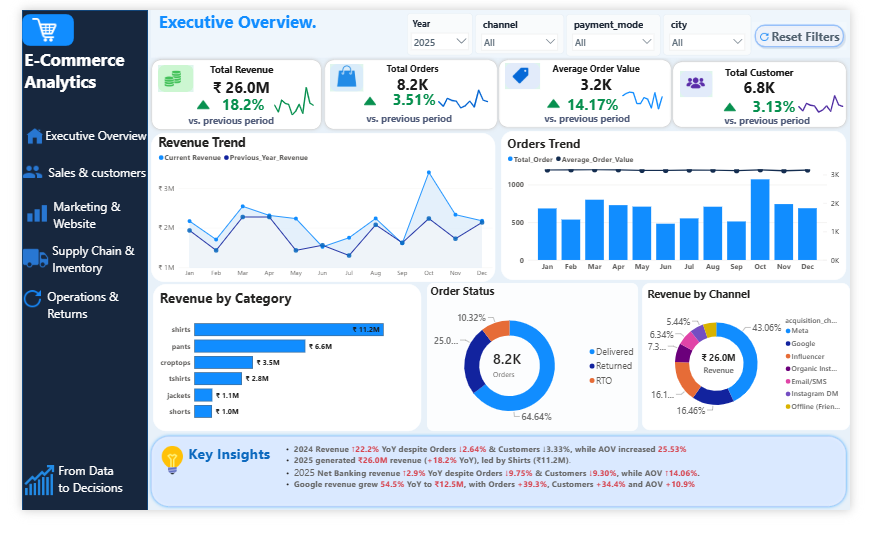

The page's visual inventory and layout, read from the dashboard file:
{"tool":"powerbi","page":{"name":"Page 1","canvas":[1840,1110],"ordinal":0},"visuals":[{"type":"actionButton","box":[1622.4,26.5,210.3,62.1],"z":0,"group":"g7"},{"type":"shape","box":[281,102.1,393.3,171.8],"z":0,"group":"g2"},{"type":"shape","box":[664.1,102.7,400,171.1],"z":0,"group":"g3"},{"type":"shape","box":[1051.4,103.2,400,166.7],"z":0,"group":"g1"},{"type":"shape","box":[1437.8,107.8,402.2,162.2],"z":0,"group":"g4"},{"type":"donutChart","title":"Order Status","fields":{"Y":["Dax_Measure.Total_Order"],"Category":["public order_clean.delivered_returned_rto"]},"box":[899.4,606.9,468.9,328.9],"z":0,"group":"g6"},{"type":"donutChart","title":"Revenue by Channel","fields":{"Category":["public customers_clean.acquisition_channel"],"Y":["Dax_Measure.Total_Revenue"]},"box":[1376.9,607.3,462.2,326.7],"z":0,"group":"g5"},{"type":"shape","box":[280.4,939.2,1558.8,170.6],"z":0},{"type":"shape","box":[0,0,280,1500],"z":1000},{"type":"image","box":[1625.8,48.9,46.6,22.4],"z":1000,"group":"g7"},{"type":"cardVisual","title":"Average Order Value","fields":{"Data":["Dax_Measure.Average_Order_Value"]},"box":[1166.7,116,218.4,146.7],"z":1000,"group":"g1"},{"type":"cardVisual","title":"Total Orders","fields":{"Data":["Dax_Measure.Total_Order"]},"box":[760.7,116.5,215.6,151.1],"z":1000,"group":"g3"},{"type":"cardVisual","title":"Total Revenue","fields":{"Data":["Dax_Measure.Total_Revenue"]},"box":[389.1,117.9,197.8,149.4],"z":1000,"group":"g2"},{"type":"cardVisual","title":"Total Customer","fields":{"Data":["Dax_Measure.Total Customers"]},"box":[1521,124.9,236.3,135.4],"z":1000,"group":"g4"},{"type":"cardVisual","fields":{"Data":["Dax_Measure.Total_Order"]},"box":[1025.2,704.4,119.7,162.8],"z":1000,"group":"g6"},{"type":"cardVisual","fields":{"Data":["Dax_Measure.Total_Revenue"]},"box":[1468,741,158.1,90.5],"z":1000,"group":"g5"},{"type":"group","id":"g1","title":"Averaage Order Value","box":[1051.4,103.2,400,166.7],"z":2000},{"type":"shape","box":[1072.5,118.8,77.9,57.7],"z":2000,"group":"g1"},{"type":"shape","box":[684.7,120.4,73.9,61],"z":2000,"group":"g3"},{"type":"shape","box":[302.7,123.1,79.1,59.8],"z":2000,"group":"g2"},{"type":"shape","box":[1461.9,137,72.4,57.8],"z":2000,"group":"g4"},{"type":"shape","box":[286.5,0,1584.6,105.8],"z":3000},{"type":"image","box":[301.3,124.3,74.6,51.1],"z":3000,"group":"g2"},{"type":"cardVisual","fields":{"Data":["Dax_Measure.Order_Growth"]},"box":[753.5,162.8,195.6,66.7],"z":3000,"group":"g3"},{"type":"cardVisual","fields":{"Data":["Dax_Measure.AOV YOY Growth %"]},"box":[1166.7,167.2,188.9,80],"z":3000,"group":"g1"},{"type":"cardVisual","fields":{"Data":["Dax_Measure.Customer YOY Growth %"]},"box":[1560.5,179.4,188.9,68.9],"z":3000,"group":"g4"},{"type":"textbox","box":[286.5,0,1580.8,107.7],"z":4000},{"type":"lineChart","fields":{"Y":["Dax_Measure.Average_Order_Value"],"Category":["Dim_Date.Year Month"]},"box":[1320.4,165.1,117.3,61.9],"z":4000,"group":"g1"},{"type":"cardVisual","fields":{"Data":["Dax_Measure.Revenue Growth %"]},"box":[391.7,171.3,178,71.9],"z":4000,"group":"g2"},{"type":"image","box":[732.1,182.7,80,40],"z":4000,"group":"g3"},{"type":"image","box":[1548.9,196.7,48.9,40],"z":4000,"group":"g4"},{"type":"image","box":[1078.1,127.6,60,37.8],"z":5000,"group":"g1"},{"type":"lineChart","fields":{"Y":["Dax_Measure.Total Customers"],"Category":["Dim_Date.Year Month"]},"box":[1710.5,168.6,127.5,71.4],"z":5000,"group":"g4"},{"type":"image","box":[367,189.5,72,42.7],"z":5000,"group":"g2"},{"type":"textbox","box":[760.7,220.9,213.3,46.7],"z":5000,"group":"g3"},{"type":"image","box":[3.9,1011.8,66.7,66.7],"z":5000},{"type":"image","box":[1468.8,138.7,56.9,46.2],"z":6000,"group":"g4"},{"type":"lineChart","fields":{"Y":["Dax_Measure.Total_Order"],"Category":["Dim_Date.Year Month"]},"box":[910.9,154.9,138.4,73.5],"z":6000,"group":"g3"},{"type":"image","box":[1151.4,187.6,60,42.2],"z":6000,"group":"g1"},{"type":"textbox","box":[364.8,223.3,211.1,64.4],"z":6000,"group":"g2"},{"type":"textbox","box":[76.5,1000,196.1,92.2],"z":6000},{"type":"group","id":"g2","title":"Total-Revenue KPI","box":[281,102.1,393.3,186.7],"z":7000},{"type":"lineChart","fields":{"Category":["Dim_Date.Year Month"],"Y":["Dax_Measure.Total_Revenue"]},"box":[548.4,154.9,115.6,83.6],"z":7000,"group":"g2"},{"type":"textbox","box":[1155.6,220.5,206.7,42.2],"z":7000,"group":"g1"},{"type":"textbox","box":[1556.1,225.3,215.6,37.8],"z":7000,"group":"g4"},{"type":"group","id":"g3","title":"Total-Orders KPI","box":[664.1,102.7,400,171.1],"z":8000},{"type":"image","box":[686.5,121.2,69.2,48.1],"z":9000},{"type":"group","id":"g4","title":"Total customers KPI","box":[1437.8,107.8,402.2,162.2],"z":10000},{"type":"clusteredBarChart","title":"Revenue by Category","fields":{"Category":["public clean_fashionorder.category"],"Y":["Dax_Measure.Category_Revenue"]},"box":[292.2,609.8,596.1,327.5],"z":12000},{"type":"group","id":"g5","title":"Group 1","box":[1376.9,607.3,462.2,326.7],"z":13000},{"type":"group","id":"g6","title":"Group 2","box":[899.4,606.9,468.9,328.9],"z":14000},{"type":"lineChart","title":"Revenue Trend","fields":{"Category":["Dim_Date.Month"],"Y":["Dax_Measure.Total_Revenue","Dax_Measure.Previous_Year_Revenue"]},"box":[285.7,273.5,765.3,330.6],"z":15000},{"type":"slicer","fields":{"Values":["public order_clean.channel_source_last_touch"]},"box":[1006.7,8.9,197.8,88.9],"z":16000},{"type":"slicer","fields":{"Values":["public order_clean.payment_mode"]},"box":[1209.8,9.8,209.8,94.1],"z":17000},{"type":"slicer","fields":{"Values":["public customers_clean.city"]},"box":[1423.5,9.8,196.1,92.2],"z":18000},{"type":"slicer","fields":{"Values":["Dim_Date.Year"]},"box":[855.8,7.7,146.2,94.2],"z":19000},{"type":"group","id":"g7","title":"Reset Button","box":[1622.4,26.5,210.2,61.2],"z":20000},{"type":"image","box":[292.2,962.7,86,76],"z":21000},{"type":"textbox","box":[364.7,952.9,243.1,76.5],"z":22000},{"type":"textbox","box":[0,80,280,108.9],"z":23000},{"type":"shape","box":[0,8.9,115.6,71.1],"z":24000},{"type":"image","box":[8.9,17.8,82.2,53.3],"z":25000},{"type":"image","box":[0,261.2,57.1,36.7],"z":26000},{"type":"image","box":[0,322.4,46.9,75.5],"z":27000},{"type":"image","box":[2.1,510.6,44.7,66],"z":28000},{"type":"image","box":[0,424.5,65.3,55.1],"z":29000},{"type":"image","box":[0,616,46,52],"z":30000},{"type":"textbox","box":[46.9,255.1,255.1,83.7],"z":31000},{"type":"textbox","box":[46.9,338.8,234.7,59.2],"z":32000},{"type":"textbox","box":[65.3,412.2,216.3,81.6],"z":33000},{"type":"textbox","box":[51.1,510.6,231.9,87.2],"z":34000},{"type":"textbox","box":[50,614,228,96],"z":35000},{"type":"textbox","box":[570.6,939.2,1266.7,170.6],"z":36000},{"type":"lineClusteredColumnComboChart","title":"Ordes Trend","fields":{"Category":["Dim_Date.Month"],"Y":["Dax_Measure.Total_Order"],"Y2":["Dax_Measure.Average_Order_Value"]},"box":[1057.1,269.6,775,328.6],"z":38000}]}

Visuals, with their boxes on the page's 1840x1110 design canvas (x1, y1, x2, y2). These are canvas units, not pixel positions in the 878x533 screenshot, which may show the page scaled, cropped or inside an application window:
actionButton: 1622/26/1833/89
shape: 281/102/674/274
shape: 664/103/1064/274
shape: 1051/103/1451/270
shape: 1438/108/1840/270
"Order Status" donutChart: 899/607/1368/936
"Revenue by Channel" donutChart: 1377/607/1839/934
shape: 280/939/1839/1110
shape: 0/0/280/1500
image: 1626/49/1672/71
"Average Order Value" cardVisual: 1167/116/1385/263
"Total Orders" cardVisual: 761/116/976/268
"Total Revenue" cardVisual: 389/118/587/267
"Total Customer" cardVisual: 1521/125/1757/260
cardVisual - Dax_Measure.Total_Order: 1025/704/1145/867
cardVisual - Dax_Measure.Total_Revenue: 1468/741/1626/832
"Averaage Order Value" group: 1051/103/1451/270
shape: 1072/119/1150/176
shape: 685/120/759/181
shape: 303/123/382/183
shape: 1462/137/1534/195
shape: 286/0/1871/106
image: 301/124/376/175
cardVisual - Dax_Measure.Order_Growth: 754/163/949/230
cardVisual - Dax_Measure.AOV YOY Growth %: 1167/167/1356/247
cardVisual - Dax_Measure.Customer YOY Growth %: 1560/179/1749/248
textbox: 286/0/1867/108
lineChart - Dax_Measure.Average_Order_Value x Dim_Date.Year Month: 1320/165/1438/227
cardVisual - Dax_Measure.Revenue Growth %: 392/171/570/243
image: 732/183/812/223
image: 1549/197/1598/237
image: 1078/128/1138/165
lineChart - Dax_Measure.Total Customers x Dim_Date.Year Month: 1710/169/1838/240
image: 367/190/439/232
textbox: 761/221/974/268
image: 4/1012/71/1078
image: 1469/139/1526/185
lineChart - Dax_Measure.Total_Order x Dim_Date.Year Month: 911/155/1049/228
image: 1151/188/1211/230
textbox: 365/223/576/288
textbox: 76/1000/273/1092
"Total-Revenue KPI" group: 281/102/674/289
lineChart - Dim_Date.Year Month x Dax_Measure.Total_Revenue: 548/155/664/238
textbox: 1156/220/1362/263
textbox: 1556/225/1772/263
"Total-Orders KPI" group: 664/103/1064/274
image: 686/121/756/169
"Total customers KPI" group: 1438/108/1840/270
"Revenue by Category" clusteredBarChart: 292/610/888/937
"Group 1" group: 1377/607/1839/934
"Group 2" group: 899/607/1368/936
"Revenue Trend" lineChart: 286/274/1051/604
slicer - public order_clean.channel_source_last_touch: 1007/9/1204/98
slicer - public order_clean.payment_mode: 1210/10/1420/104
slicer - public customers_clean.city: 1424/10/1620/102
slicer - Dim_Date.Year: 856/8/1002/102
"Reset Button" group: 1622/26/1833/88
image: 292/963/378/1039
textbox: 365/953/608/1029
textbox: 0/80/280/189
shape: 0/9/116/80
image: 9/18/91/71
image: 0/261/57/298
image: 0/322/47/398
image: 2/511/47/577
image: 0/424/65/480
image: 0/616/46/668
textbox: 47/255/302/339
textbox: 47/339/282/398
textbox: 65/412/282/494
textbox: 51/511/283/598
textbox: 50/614/278/710
textbox: 571/939/1837/1110
"Ordes Trend" lineClusteredColumnComboChart: 1057/270/1832/598
